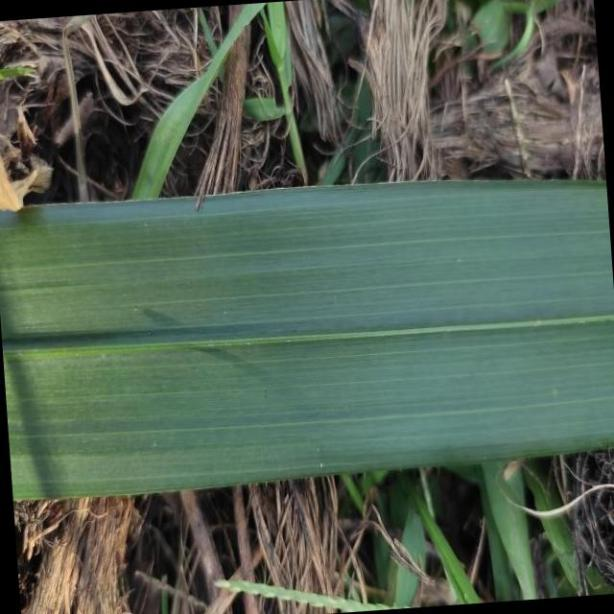Healthy: (3, 180, 614, 505)
